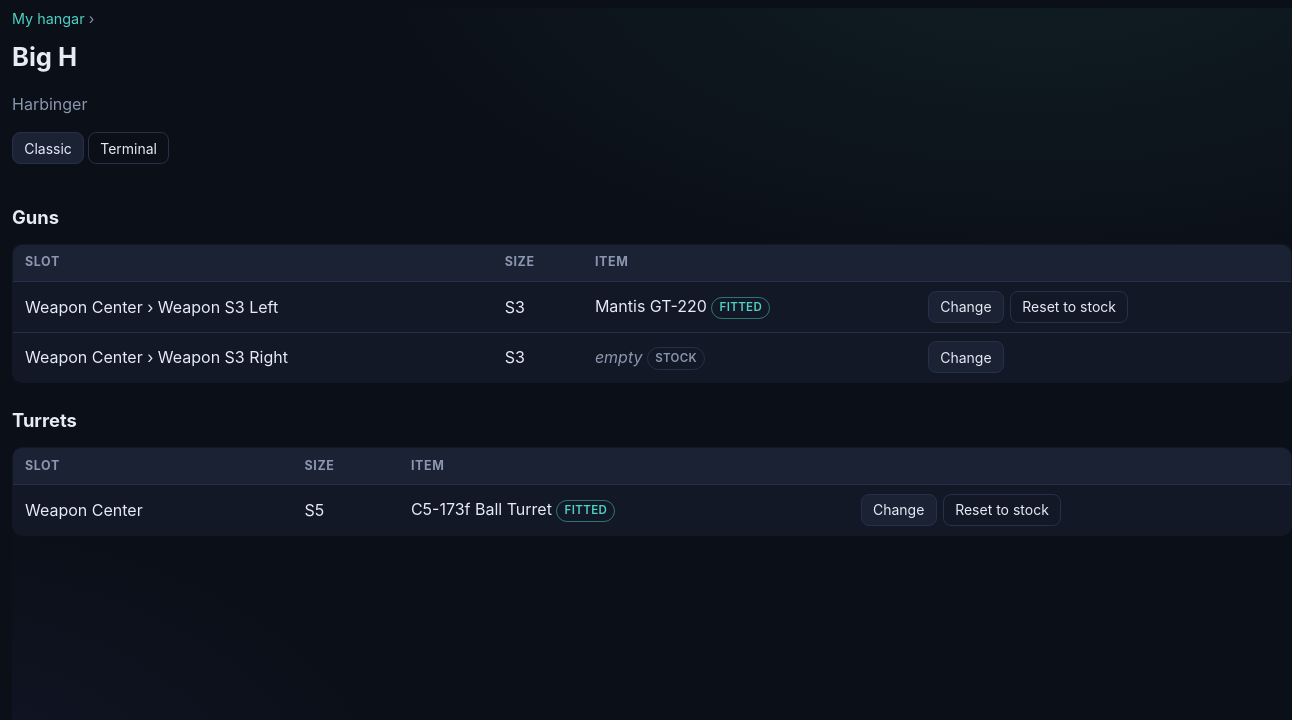
Test: ShipDetailPage › slots that come from a fitted item › resetting a parent removes its child slots and names the fittings dropped with it
The width and height of the screenshot is (1292, 720).
Expected: the text "weapon center › weapon S3 left" is shown, [12,281,493,332]
Click the button "Reset to stock" in the row of "S5": [1002, 510] box [943,494,1061,526]
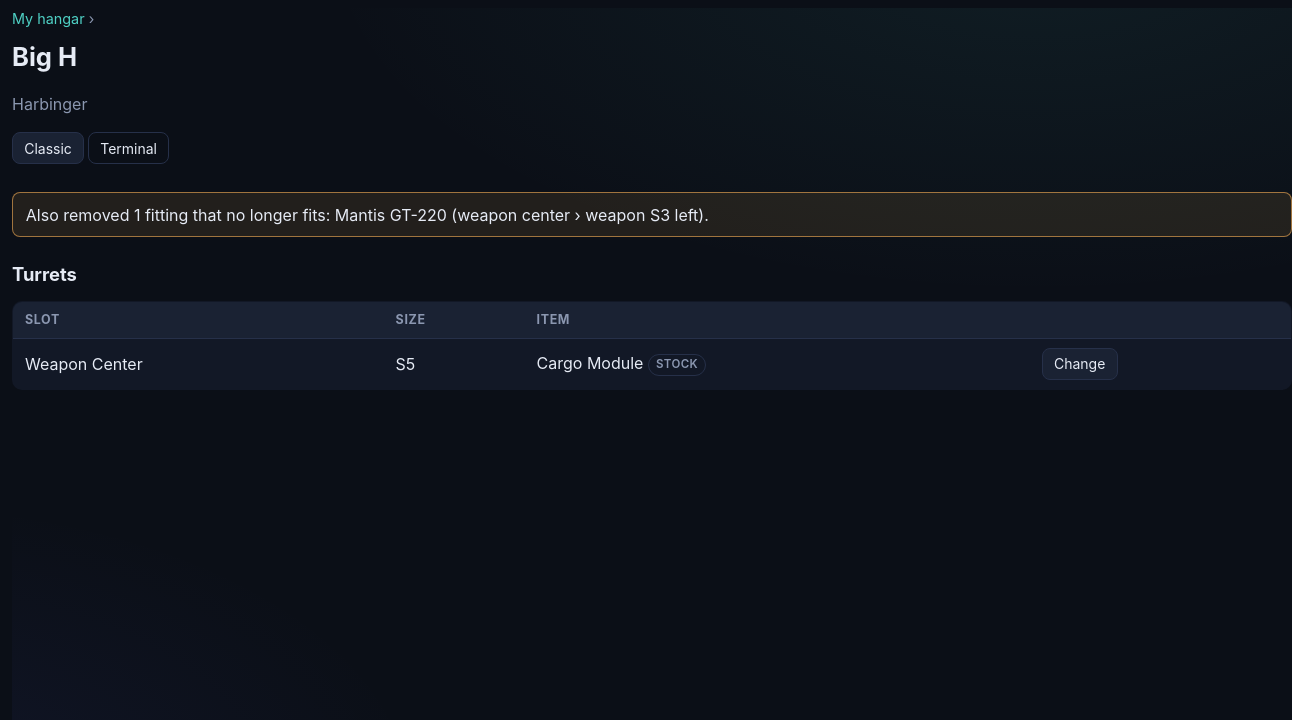
Expected: the text "weapon center › weapon S3 left" is not shown
Now the message shows "Also removed 1 fitting that no longer fits: Mantis GT-220 (weapon center › weapon S3 left).", box [26,205,709,225]
Now the text "Cargo Module" is shown, box [537,354,643,374]
